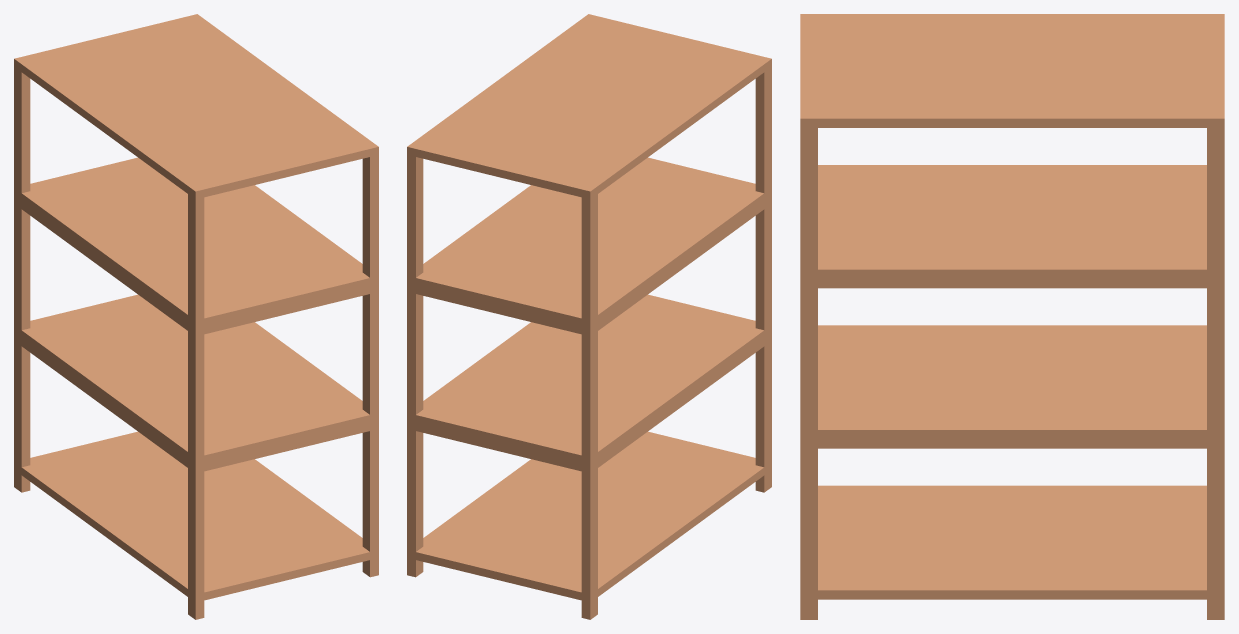
The model's file is shelf.fbx.
3 renders of one model, left to right at view 1: azimuth 30°, elevation 25°; view 2: azimuth 150°, elevation 25°; view 3: azimuth 270°, elevation 25°, orthographic. The views are drawn at different scales.
Visible parts, largest first — view 1: Cube; view 2: Cube; view 3: Cube.
Part boxes in pixels (x1=…): Cube: x1=14, y1=14, x2=378, y2=619; Cube: x1=407, y1=14, x2=771, y2=619; Cube: x1=800, y1=14, x2=1224, y2=619.
Bounding box in the file's own units: 140 × 313 × 240.
